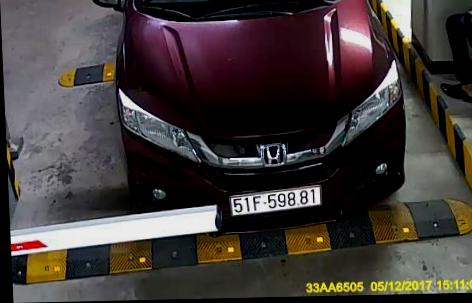License_Plate: (228, 187, 325, 213)
